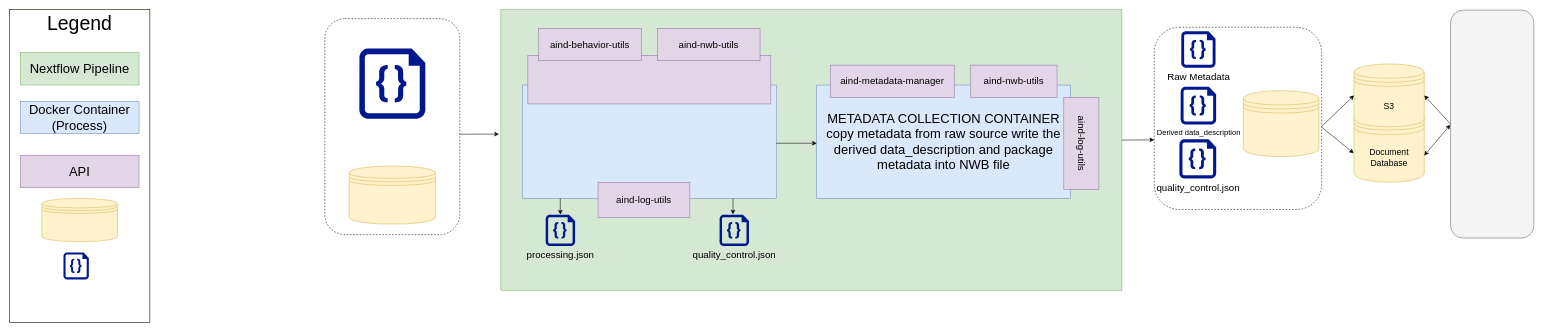
This 1543x332 diagram has some shape labels left out. Here are the shapes that lost their labels. From the top down, the centre of each, then its label:
At pixel 392 83: "Metadata".
At pixel 649 79: "dynamic-foraging-processing".
At pixel 649 141: "DYNAMIC FORAGING: PROCESS, QC & PACKAGE NWB FILE".
At pixel 1281 123: "Derived Data: Processed and QC".
At pixel 1492 124: "QC Portal".
At pixel 392 195: "Raw Data".
At pixel 79 220: "Data/DB".
At pixel 76 265: "aind-data-schema JSON".
